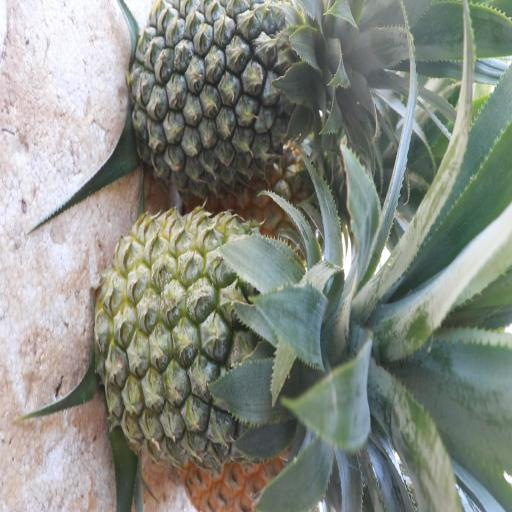------------------------------: (100, 220, 337, 458)
